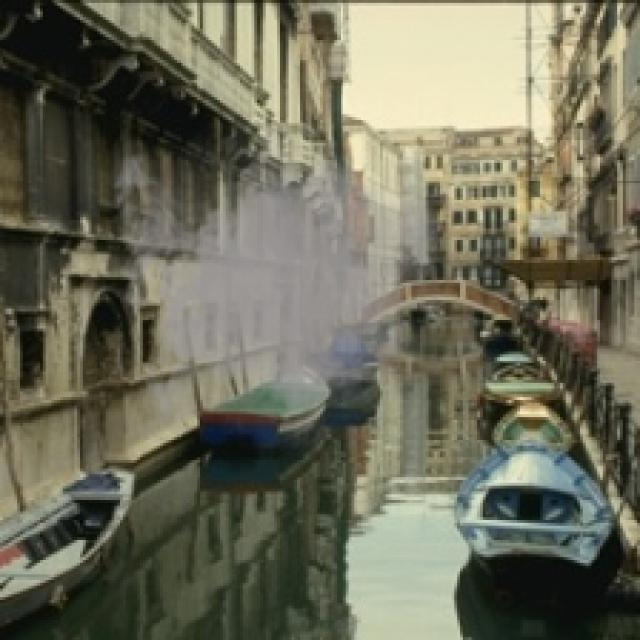Smoke: (103, 100, 446, 469)
